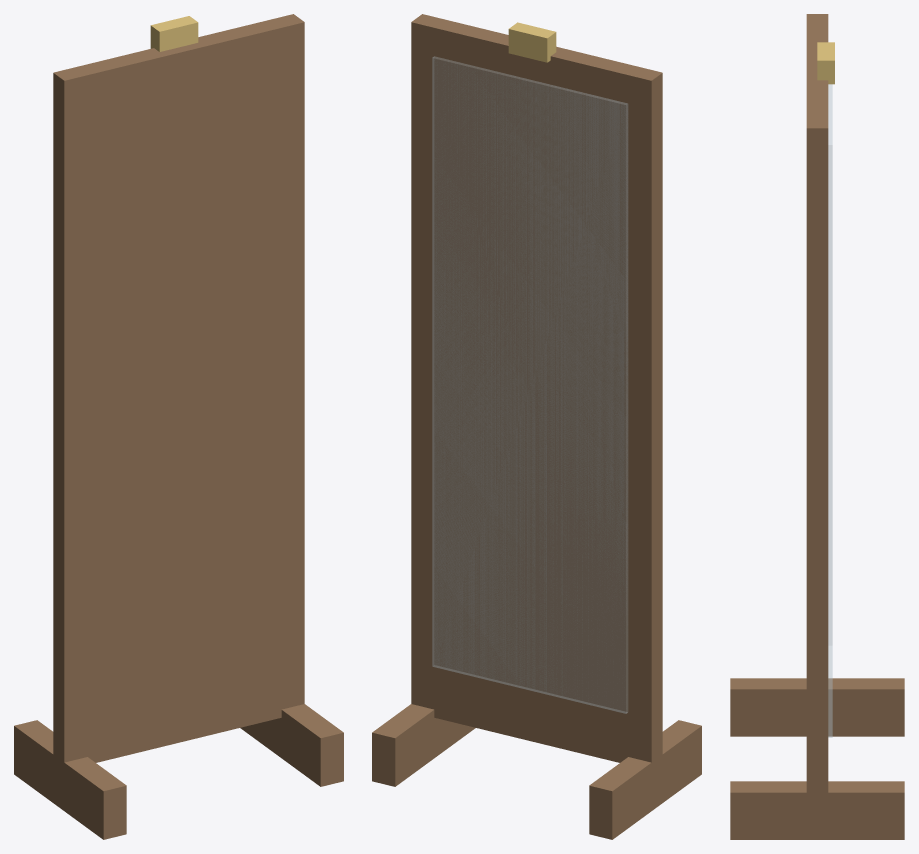
The model's file is mirror.glb.
The picture shows the model from 3 angles, left to right: view 1: azimuth 30°, elevation 25°; view 2: azimuth 150°, elevation 25°; view 3: azimuth 270°, elevation 25°; orthographic projection. The views are drawn at different scales.
Visible parts, largest first — view 1: mirror; view 2: mirror; view 3: mirror.
Boxes of the visible parts, <box> form: mirror: <box>14,14,343,839</box>; mirror: <box>372,14,701,839</box>; mirror: <box>730,14,904,839</box>.
Size of the model in its own units: 0.62 by 1.85 by 0.4.
